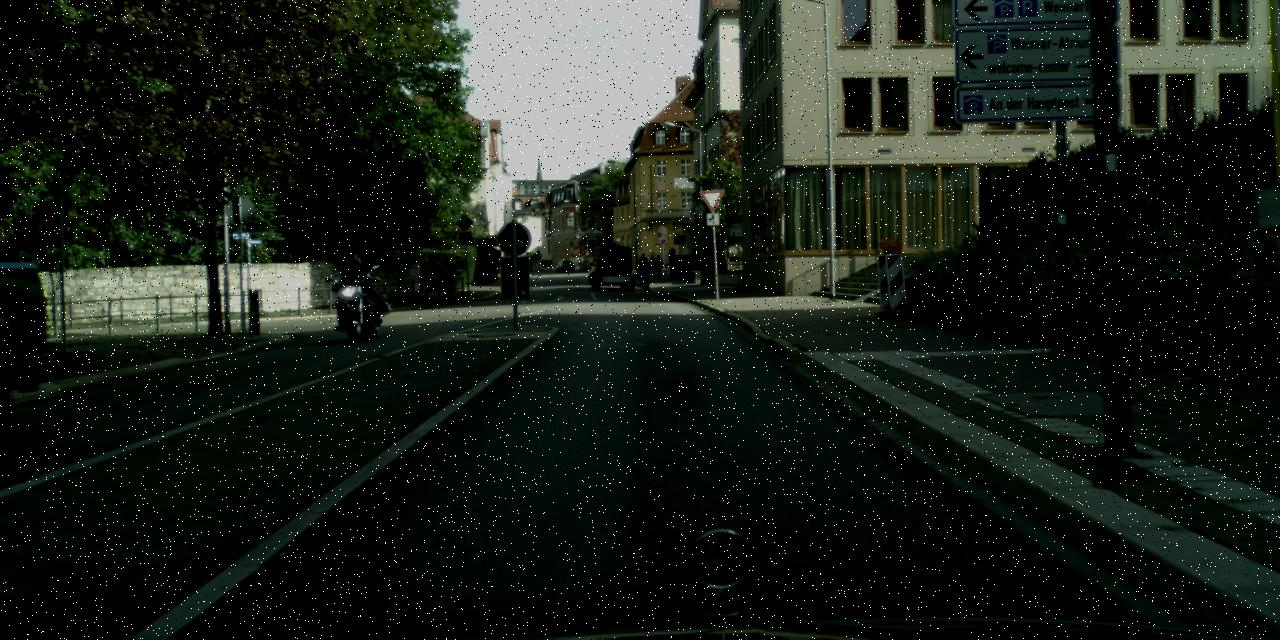ped: (342, 252, 371, 326), (638, 258, 650, 287), (638, 252, 648, 278), (647, 255, 656, 277), (653, 255, 662, 277)
